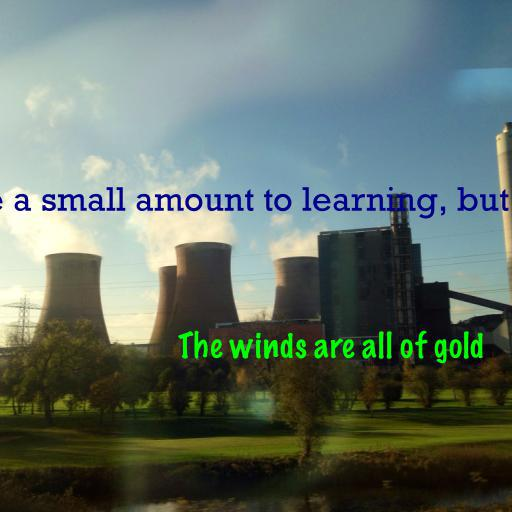Marker Felt: (178, 330, 484, 364)
Rockwell: (0, 186, 512, 219)
